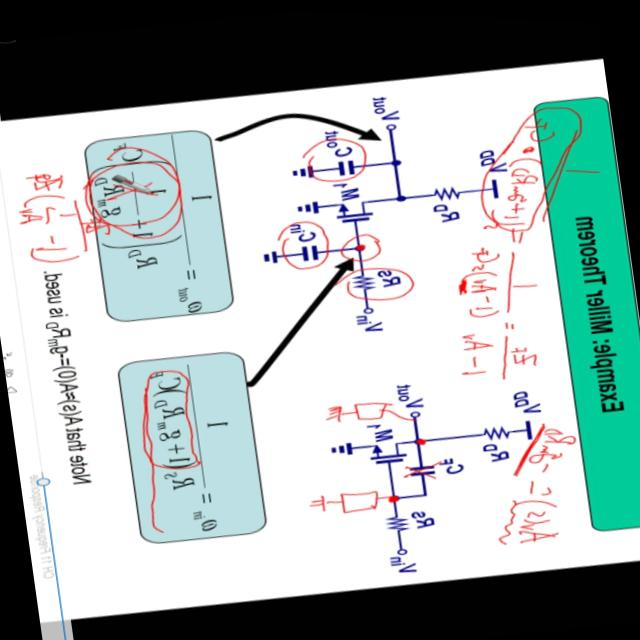panseo: (413, 86, 637, 399), (4, 120, 220, 300), (274, 365, 466, 555), (482, 416, 598, 559)
